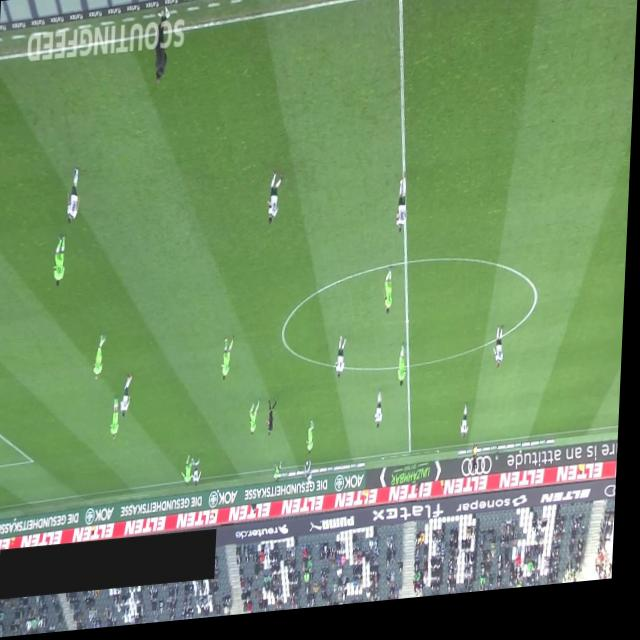player: (267, 175, 284, 231), (67, 167, 83, 226), (396, 183, 411, 242), (54, 235, 68, 288), (223, 340, 238, 385), (95, 335, 109, 382), (122, 376, 135, 421), (385, 273, 396, 322), (495, 335, 507, 379), (338, 342, 349, 385), (184, 457, 197, 492), (377, 396, 388, 437), (400, 350, 410, 395), (113, 398, 123, 442), (252, 404, 263, 441), (463, 411, 473, 450), (195, 460, 206, 491), (309, 426, 318, 461), (306, 465, 316, 495), (277, 466, 286, 487)
referee: (268, 404, 281, 442), (475, 452, 482, 484)
